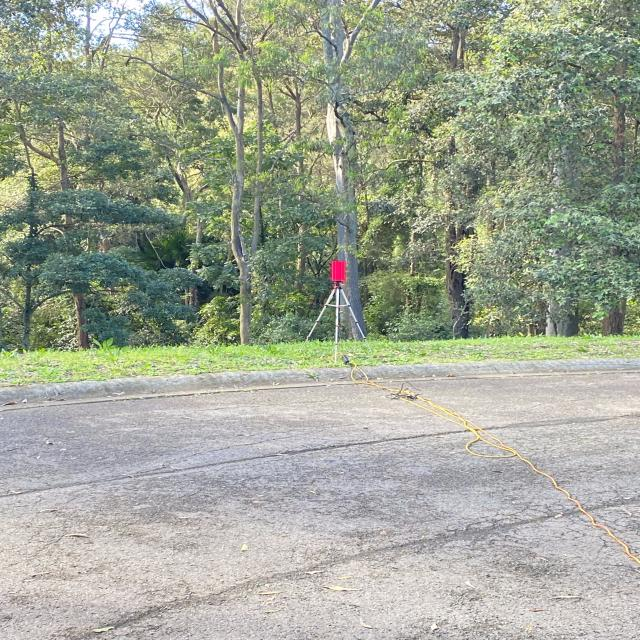matrix: (331, 260, 346, 282)
